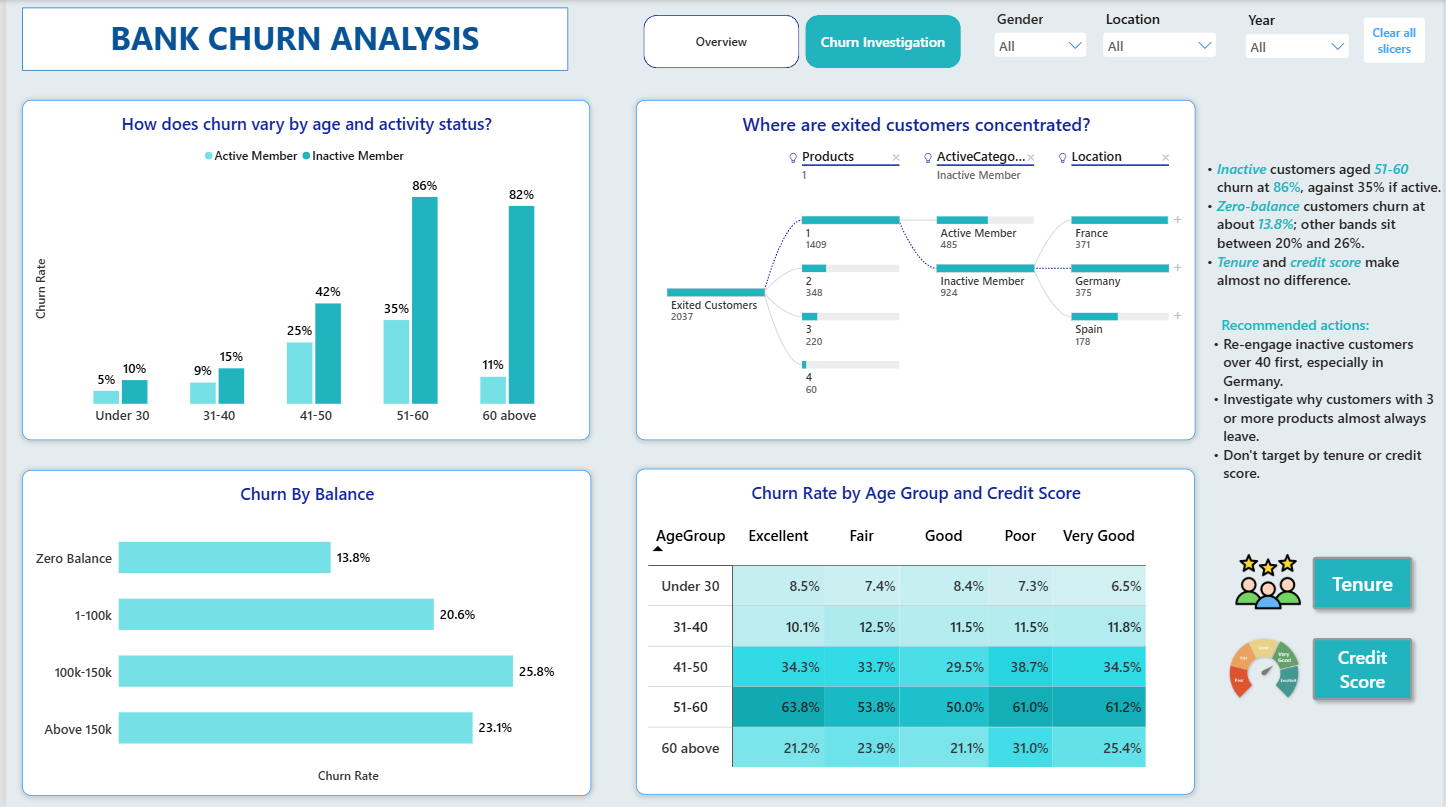

This screenshot's page, from the dashboard's own definition file:
{"tool":"powerbi","page":{"name":"Churn Investigation","canvas":[1920,1080],"ordinal":2},"visuals":[{"type":"shape","box":[21.6,10.8,729.3,84.4],"z":0},{"type":"textbox","box":[67.1,19.5,638,70],"z":1000},{"type":"actionButton","box":[1813.6,23.8,82.2,60.6],"z":2000},{"type":"slicer","fields":{"Values":["dim_gender.GenderCategory"]},"box":[1316,11,132,84.4],"z":3000},{"type":"slicer","fields":{"Values":["dim_geography.GeographyLocation"]},"box":[1461.4,11,160.1,79.1],"z":4000},{"type":"slicer","fields":{"Values":["Date.Year"]},"box":[1651.4,13.4,147.2,84.4],"z":5000},{"type":"barChart","title":"Churn By Balance","fields":{"Category":["fact_bank_churn.BalanceCategory"],"Y":["_Measures.Churn Rate"]},"box":[21.6,627.4,759.6,435],"z":8000},{"type":"pageNavigator","box":[852.2,20.2,425.2,71.8],"z":9000},{"type":"clusteredColumnChart","title":"How does churn vary by age and activity status?","fields":{"Category":["fact_bank_churn.AgeGroup"],"Series":["dim_active_customers.ActiveCategory"],"Y":["_Measures.Churn Rate"]},"box":[22.1,134.4,758.3,454.6],"z":10000},{"type":"decompositionTreeVisual","title":"Where are exited customers concentrated?","fields":{"Analyze":["_Measures.Exited Customers"],"ExplainBy":["fact_bank_churn.NumOfProducts","dim_active_customers.ActiveCategory","dim_geography.GeographyLocation","fact_bank_churn.AgeGroup"]},"box":[841.1,134.4,747.2,454.6],"z":11001},{"type":"pivotTable","title":"Churn Rate by Age Group and Credit Score","fields":{"Columns":["fact_bank_churn.CreditScoreCategory"],"Rows":["fact_bank_churn.AgeGroup"],"Values":["_Measures.Churn Rate"]},"box":[841.9,625.4,746.6,435],"z":11002},{"type":"actionButton","box":[1736.6,843.2,150.9,101.2],"z":11003},{"type":"actionButton","box":[1736.6,734.7,150.9,88.3],"z":11005},{"type":"image","box":[1636.4,733,99.4,88.3],"z":11007},{"type":"image","box":[1624.7,849.9,112.3,86.5],"z":11008},{"type":"textbox","box":[1589.6,212.1,330.6,227.1],"z":11009},{"type":"textbox","box":[1598,420.8,312.2,237.1],"z":11010}]}

Visuals, with their boxes in screenshot pixels (x1, y1, x2, y2), scaled from the page's 1920x1080 canvas onto the 1446x807 screenshot:
shape: [x1=16, y1=8, x2=566, y2=71]
textbox: [x1=51, y1=15, x2=531, y2=67]
actionButton: [x1=1366, y1=18, x2=1428, y2=63]
slicer - dim_gender.GenderCategory: [x1=991, y1=8, x2=1091, y2=71]
slicer - dim_geography.GeographyLocation: [x1=1101, y1=8, x2=1221, y2=67]
slicer - Date.Year: [x1=1244, y1=10, x2=1355, y2=73]
"Churn By Balance" barChart: [x1=16, y1=469, x2=588, y2=794]
pageNavigator: [x1=642, y1=15, x2=962, y2=69]
"How does churn vary by age and activity status?" clusteredColumnChart: [x1=17, y1=100, x2=588, y2=440]
"Where are exited customers concentrated?" decompositionTreeVisual: [x1=633, y1=100, x2=1196, y2=440]
"Churn Rate by Age Group and Credit Score" pivotTable: [x1=634, y1=467, x2=1196, y2=792]
actionButton: [x1=1308, y1=630, x2=1422, y2=706]
actionButton: [x1=1308, y1=549, x2=1422, y2=615]
image: [x1=1232, y1=548, x2=1307, y2=614]
image: [x1=1224, y1=635, x2=1308, y2=700]
textbox: [x1=1197, y1=158, x2=1445, y2=328]
textbox: [x1=1203, y1=314, x2=1439, y2=492]
